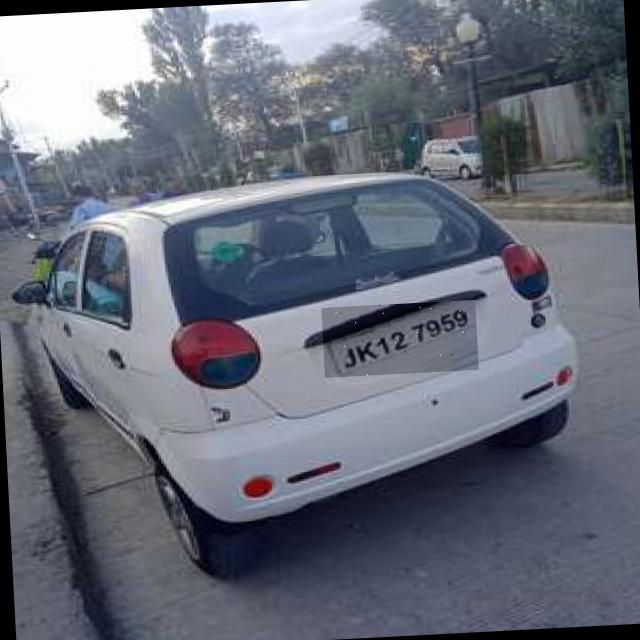Plate: (323, 301, 480, 379)
